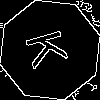K: (25, 25, 78, 70)
